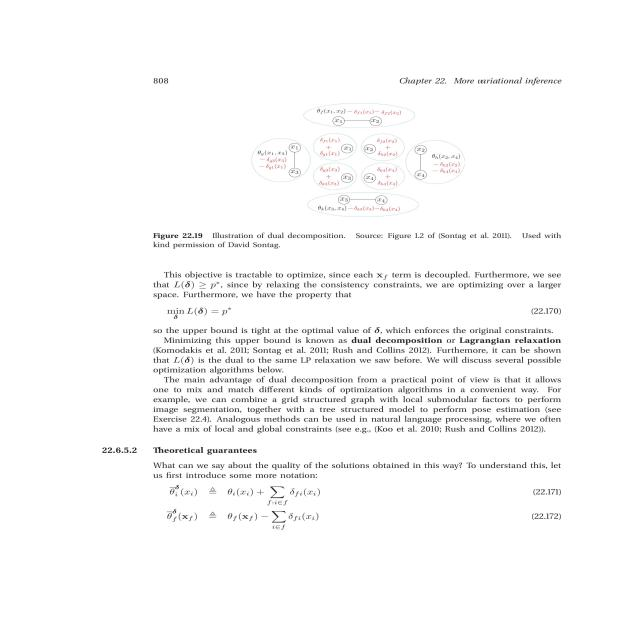diagram: (129, 95, 608, 267)
